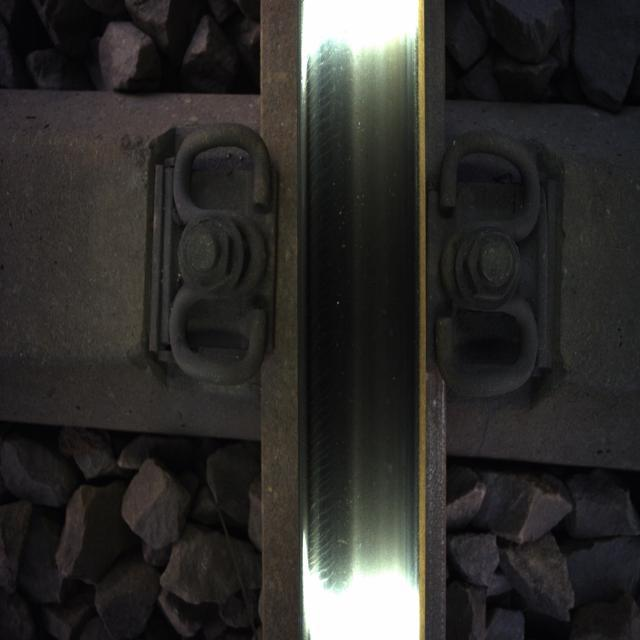break: (299, 4, 426, 604)
